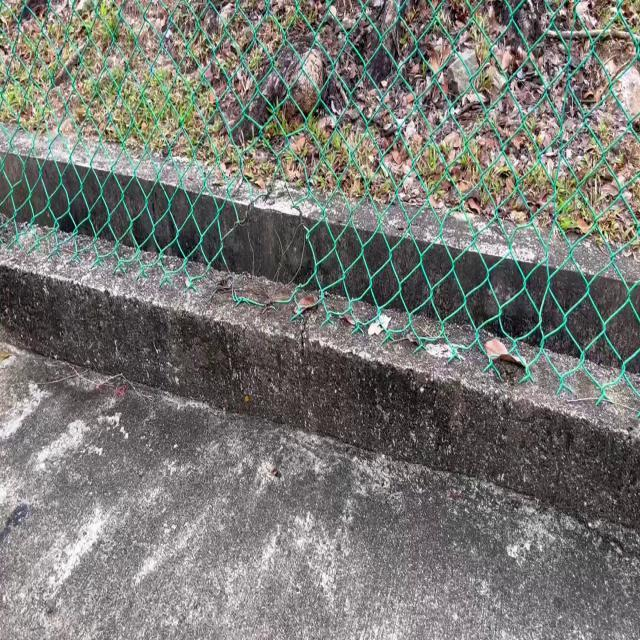fence line: (217, 181, 316, 313)
